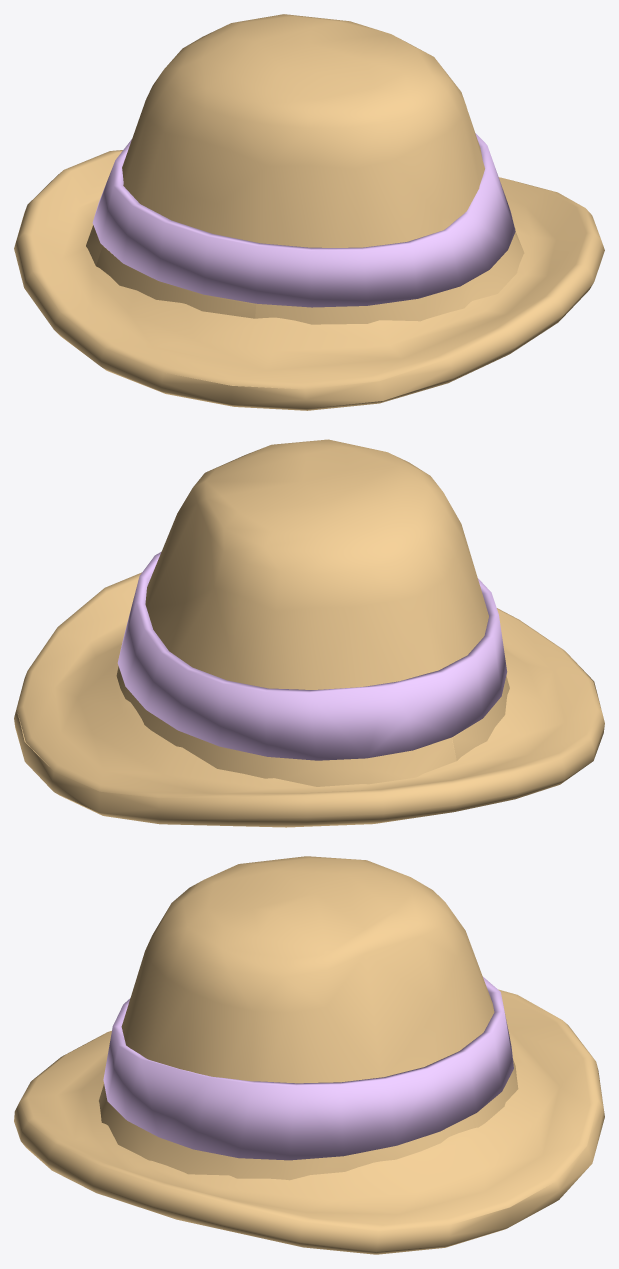
File: hat.glb
3 renders of one model, top to bottom at view 1: azimuth 30°, elevation 25°; view 2: azimuth 150°, elevation 25°; view 3: azimuth 270°, elevation 25°, orthographic. The views are drawn at different scales.
Parts seen in each view (by area): view 1: hat; view 2: hat; view 3: hat.
Part boxes in pixels (<box>): hat: <box>14,14,604,410</box>; hat: <box>14,439,604,827</box>; hat: <box>14,856,604,1254</box>.
Bounding box in the file's own units: 0.4885 × 0.2304 × 0.4887.
